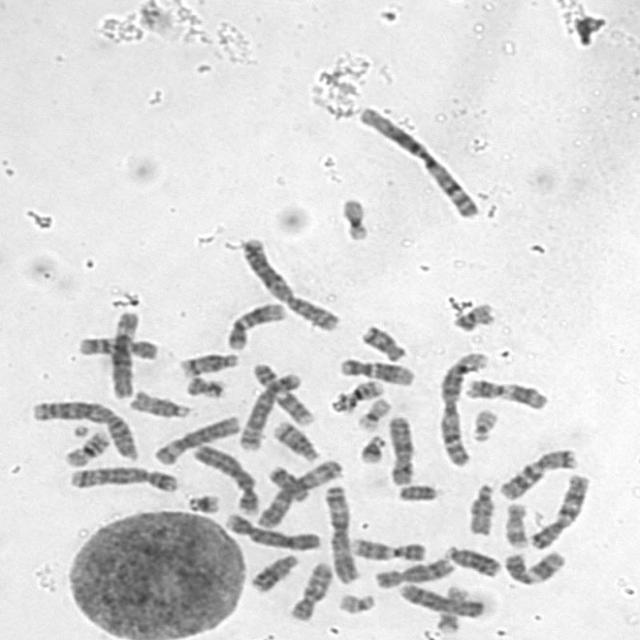A1: (350, 99, 483, 220), (432, 346, 490, 468)
A2: (234, 230, 343, 332), (24, 394, 142, 462)
A3: (252, 454, 345, 529), (318, 479, 362, 583)
B4: (187, 437, 261, 516), (218, 506, 322, 552)
B5: (232, 365, 304, 452), (63, 459, 180, 494)
C10: (282, 555, 335, 623), (72, 330, 160, 362)
C11: (458, 372, 550, 412), (498, 544, 568, 586)
C12: (220, 296, 288, 351), (334, 352, 417, 386)
C6: (148, 409, 244, 466), (102, 306, 142, 400)
C7: (522, 468, 592, 550), (492, 442, 580, 500)
C8: (393, 577, 487, 618), (368, 551, 456, 589)
C9: (246, 356, 317, 426), (343, 531, 428, 563)
D13: (243, 548, 300, 593), (438, 540, 502, 578)
D14: (266, 415, 321, 463), (172, 346, 242, 377)
D15: (123, 383, 192, 419), (462, 477, 496, 536)
E16: (325, 373, 387, 413), (58, 424, 113, 468)
E17: (430, 581, 470, 634), (498, 497, 530, 550)
E18: (354, 318, 409, 362), (262, 459, 311, 503)
F19: (334, 191, 370, 242), (351, 392, 393, 432)
F20: (446, 296, 497, 332), (179, 370, 227, 399)
G21: (352, 429, 388, 465), (181, 487, 223, 515)
G22: (464, 402, 499, 443), (331, 587, 378, 615)
X: (381, 410, 417, 486)
Y: (392, 478, 440, 503)
